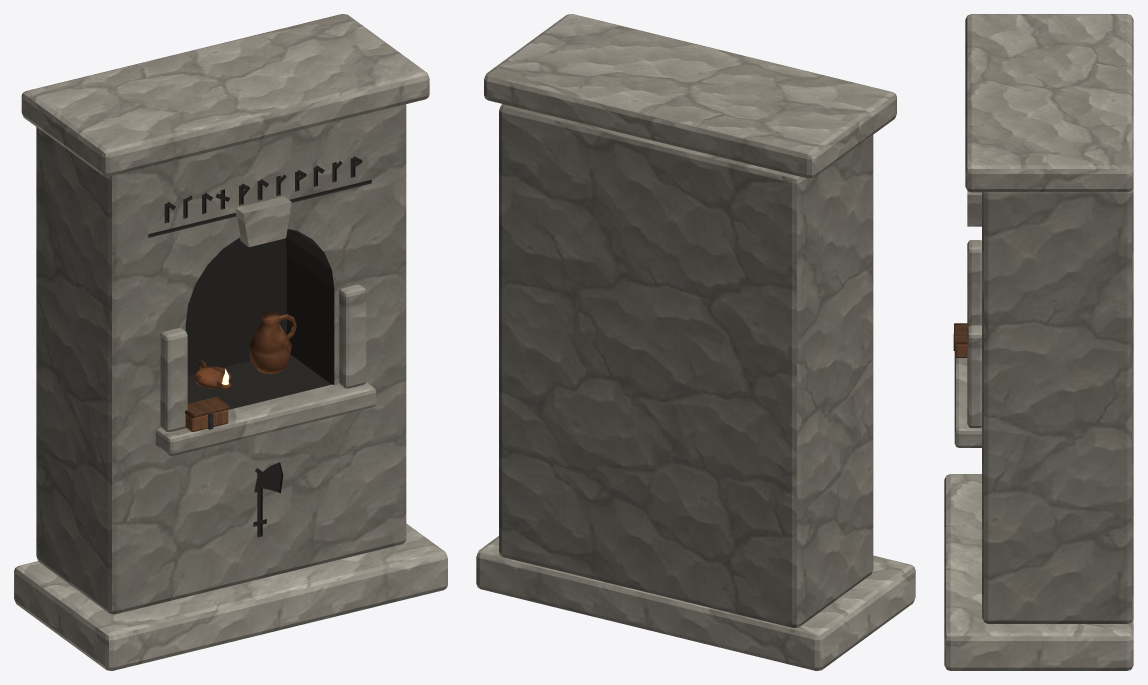
Rendered from qb_lamp_alcove.glb.
3 views of the same model, side by side, from view 1: azimuth 30°, elevation 25°; view 2: azimuth 150°, elevation 25°; view 3: azimuth 270°, elevation 25° (orthographic). The views are drawn at different scales.
Visible parts, largest first — view 1: model; view 2: model; view 3: model.
Part boxes in pixels (left/top/right/bottom): model: left=14, top=14, right=447, bottom=670; model: left=476, top=14, right=915, bottom=670; model: left=944, top=14, right=1133, bottom=670.
Bounding box in the file's own units: 0.92 × 1.31 × 0.45.
9 materials, 7 textured.
